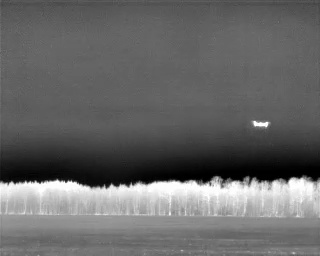DRONE: (247, 115, 274, 134)
